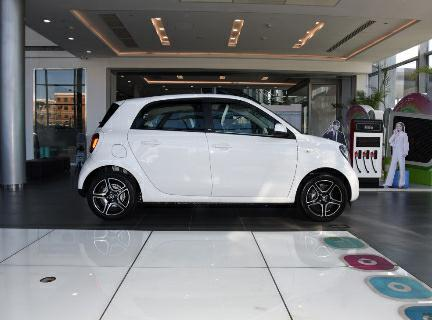smart-forfour: (75, 92, 363, 223)
